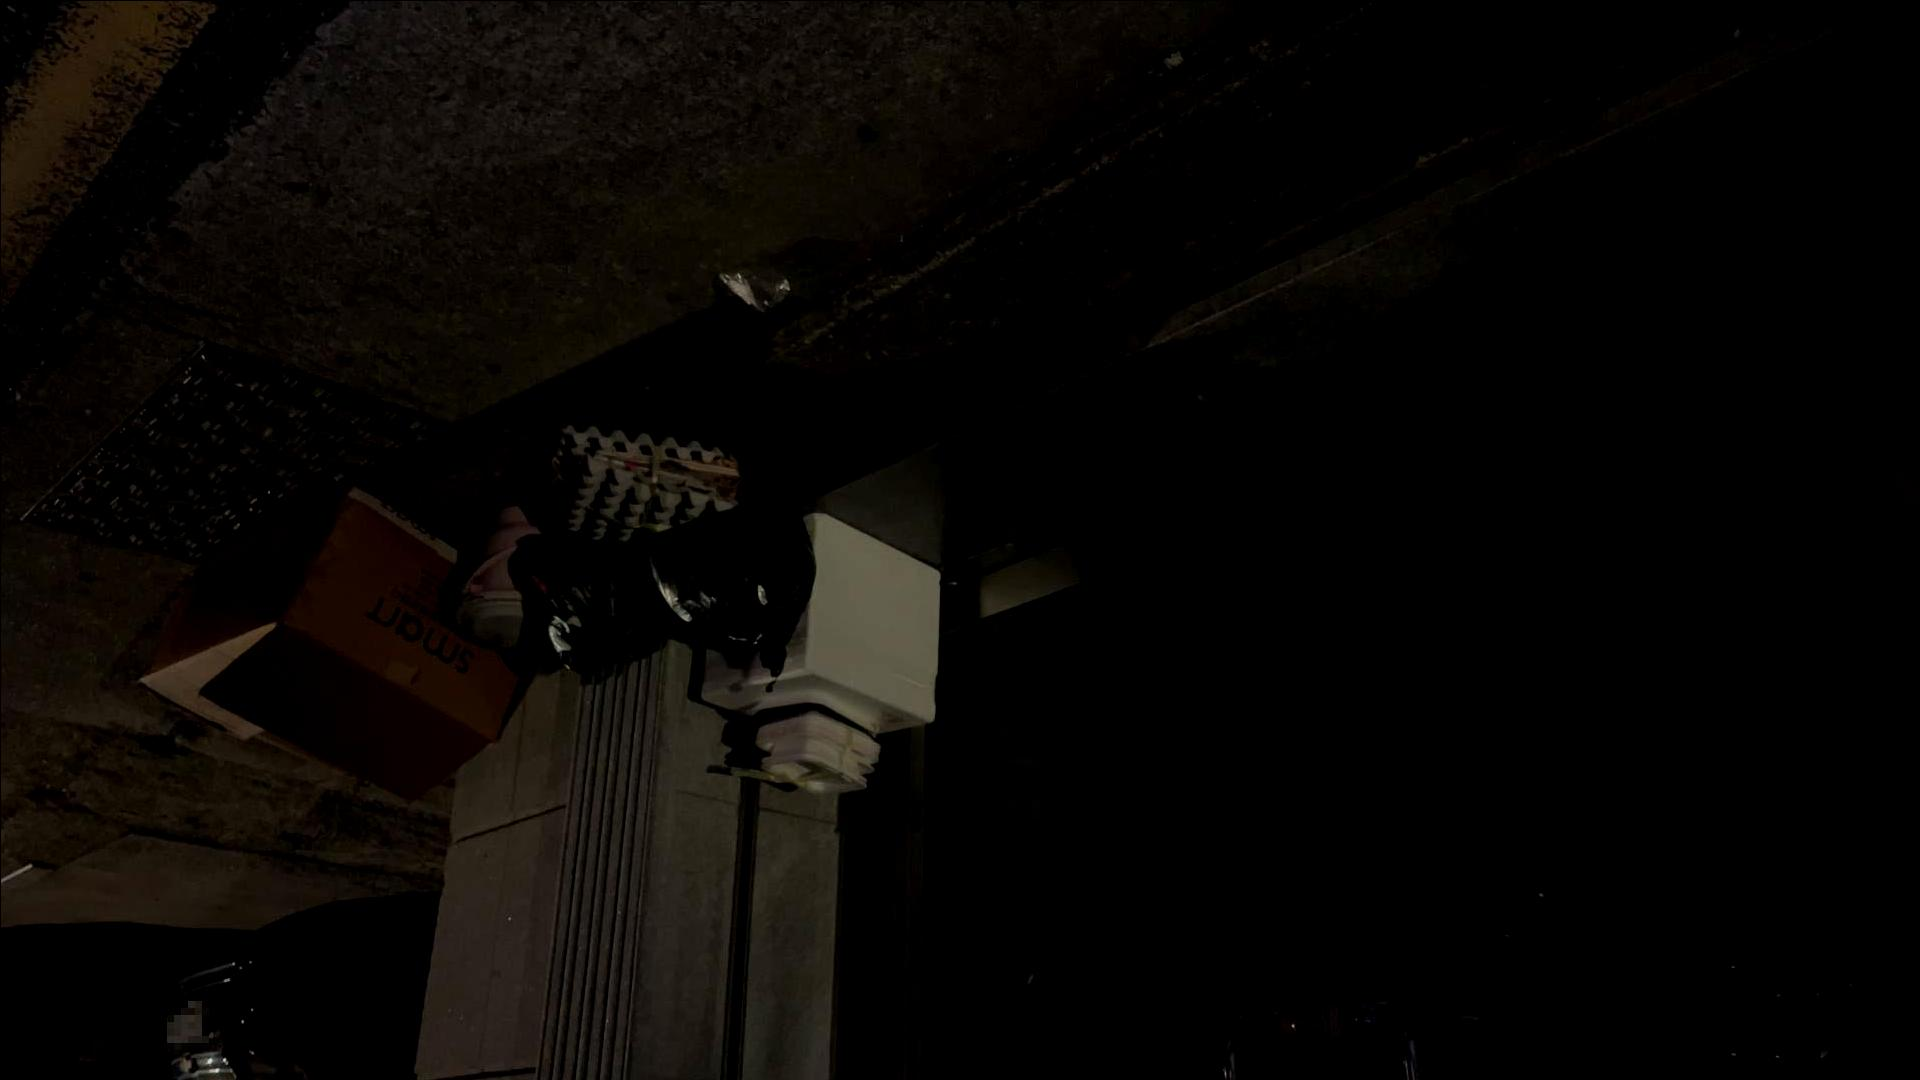black_bag: (641, 487, 825, 687), (512, 527, 666, 676)
